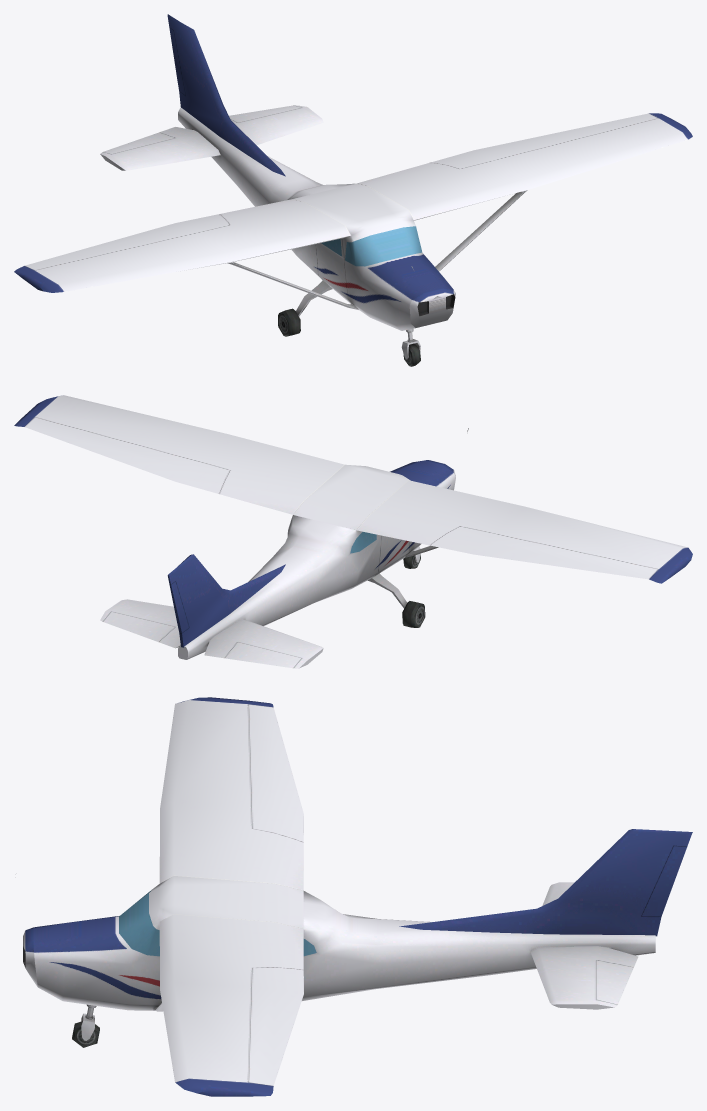
The model's file is body.glb.
3 renders of one model, top to bottom at view 1: azimuth 30°, elevation 25°; view 2: azimuth 150°, elevation 25°; view 3: azimuth 270°, elevation 25°, orthographic. The views are drawn at different scales.
Parts seen in each view (by area): view 1: awionetka_airplane_0; view 2: awionetka_airplane_0; view 3: awionetka_airplane_0.
Part boxes in pixels (box(x1,y1,x2,y2)): awionetka_airplane_0: box(14, 14, 692, 366); awionetka_airplane_0: box(14, 395, 692, 668); awionetka_airplane_0: box(23, 697, 692, 1096).
Size of the model in its own units: 130 by 33.63 by 95.07.
Materials: 1 (1 with a texture image).
